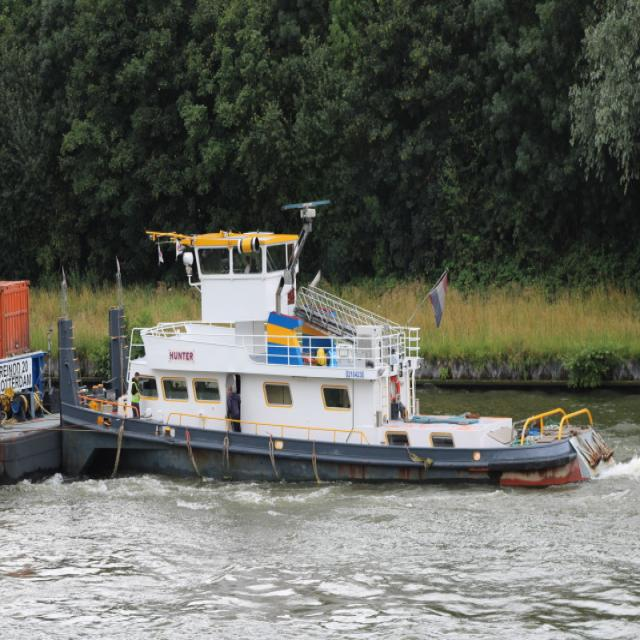tugboat: (55, 193, 621, 502)
